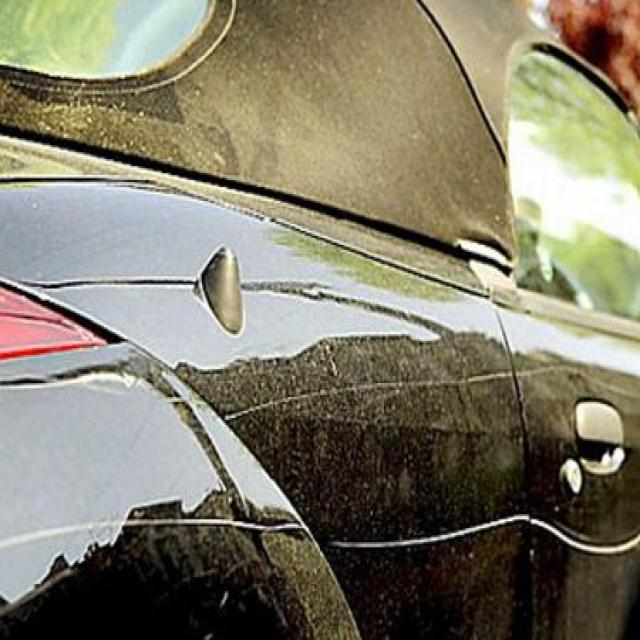scratch: (328, 505, 640, 564), (14, 518, 310, 552)
